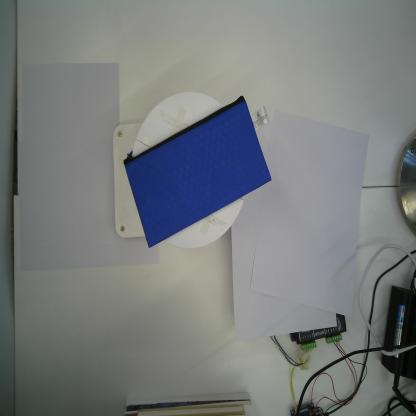Stationery: (124, 96, 272, 249)
